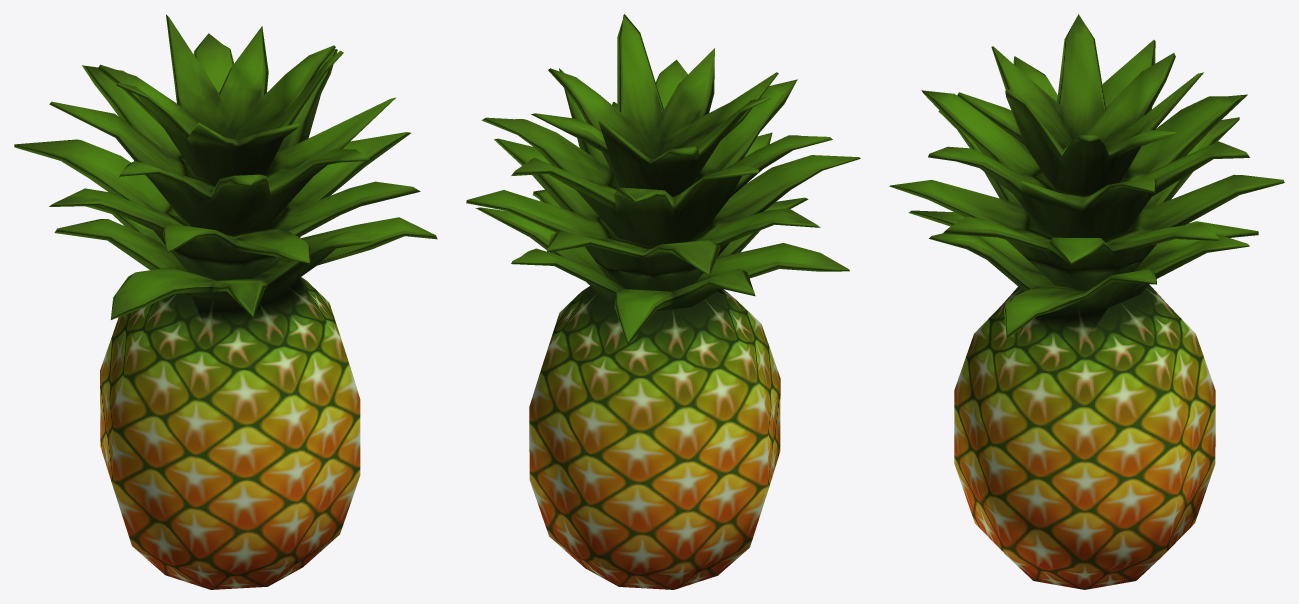
File: Pineapple.fbx
3 renders of one model, left to right at view 1: azimuth 30°, elevation 25°; view 2: azimuth 150°, elevation 25°; view 3: azimuth 270°, elevation 25°, orthographic. The views are drawn at different scales.
Visible parts, largest first — view 1: Pineapple; view 2: Pineapple; view 3: Pineapple.
Part boxes in pixels (left/top/right/bottom): Pineapple: left=14, top=14, right=437, bottom=589; Pineapple: left=466, top=14, right=860, bottom=589; Pineapple: left=889, top=14, right=1284, bottom=589.
Bounding box in the file's own units: 65.96 × 95.56 × 66.41.
